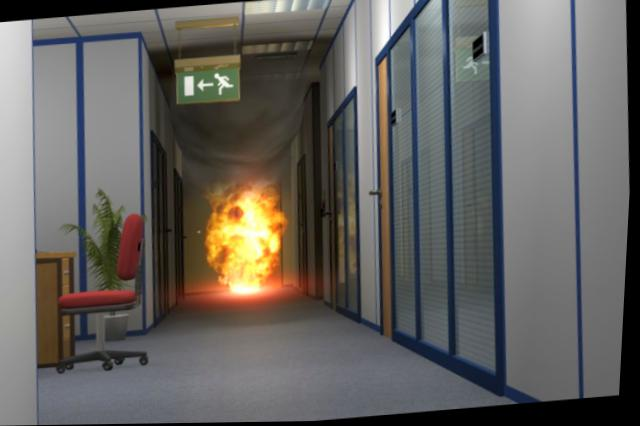fire: (202, 179, 293, 300)
